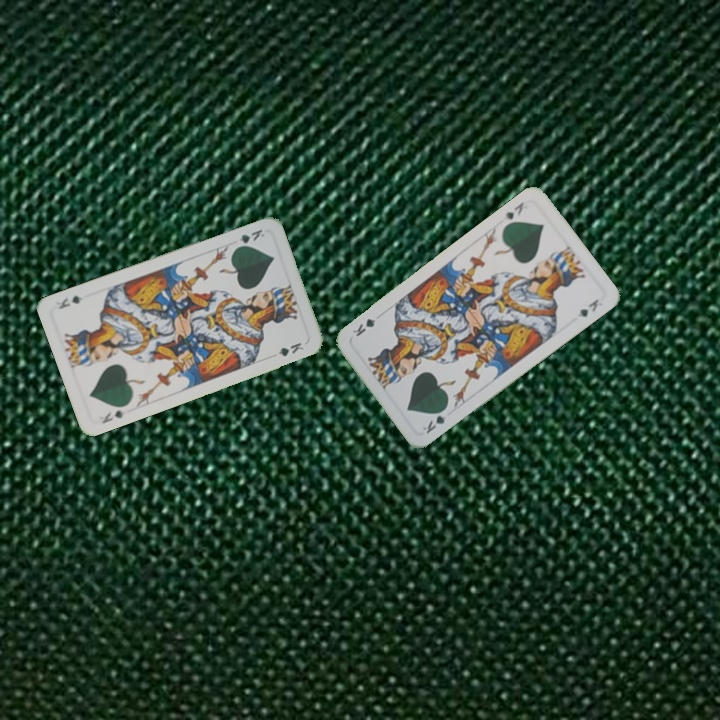GK: (418, 403, 451, 437), (231, 225, 267, 251), (499, 198, 527, 223), (98, 406, 126, 426)
